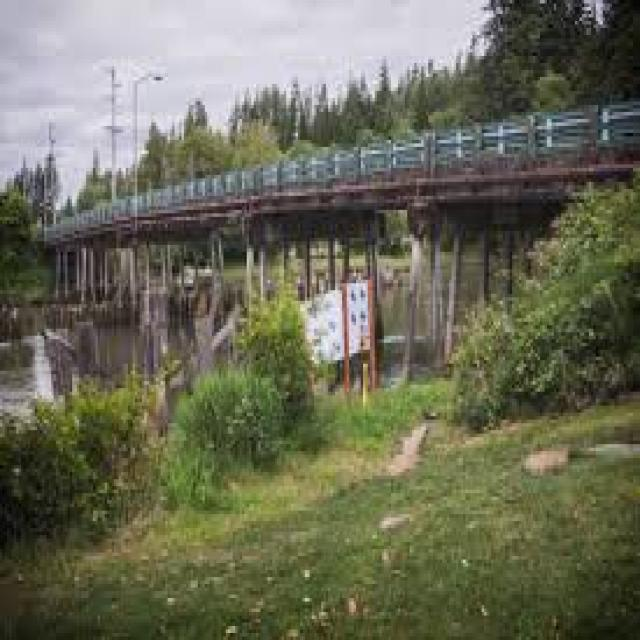Bridges: (15, 58, 640, 410)
